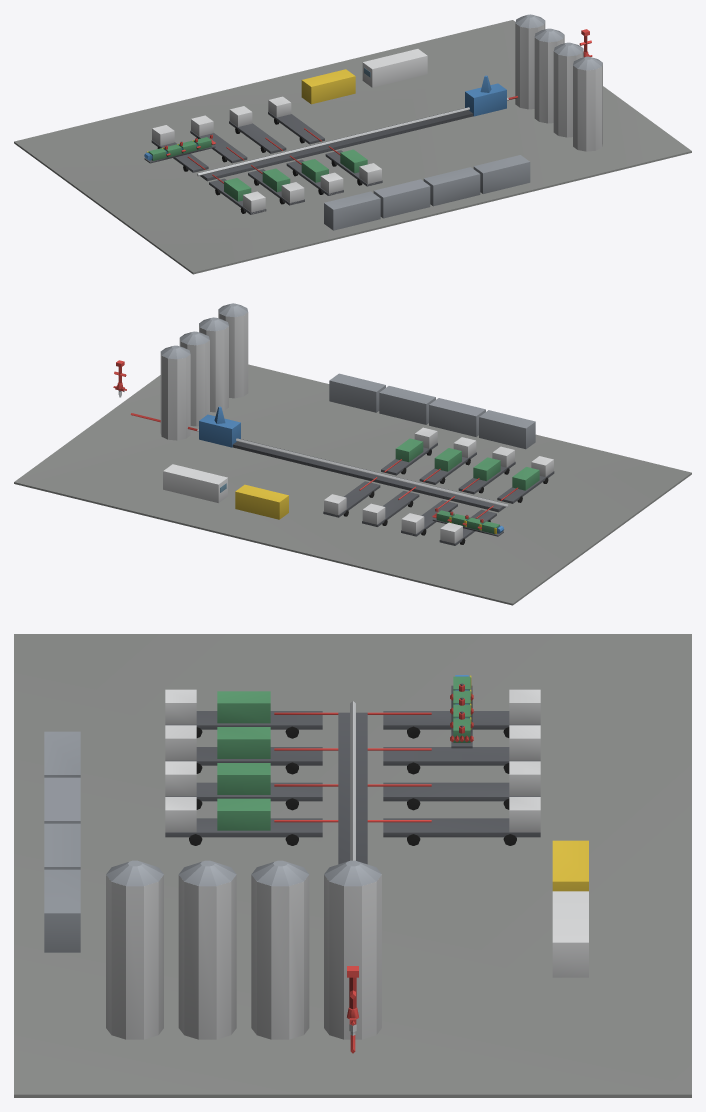
The model's file is frac_low.glb.
3 views of the same model, one above another, from view 1: azimuth 30°, elevation 25°; view 2: azimuth 150°, elevation 25°; view 3: azimuth 270°, elevation 25° (orthographic). The views are drawn at different scales.
Parts seen in each view (by area): view 1: site__pad, mudtanks__tanks, carrier__trailers, mudtanks__degasser, choke__manifold, mudpumps__fluidend2, generators__vfd, generators__gensets, mudtanks__solids, mudpumps__powerend; view 2: site__pad, mudtanks__tanks, carrier__trailers, mudtanks__degasser, choke__manifold, mudpumps__fluidend2, generators__vfd, generators__gensets, mudtanks__solids, mudpumps__powerend; view 3: site__pad, mudtanks__tanks, carrier__trailers, mudtanks__degasser, mudpumps__fluidend2, choke__manifold, generators__vfd, generators__gensets, mudpumps__powerend.
Boxes of the visible parts, box(x1,y1,x2,y2) form: site__pad: box(14, 20, 691, 274); mudtanks__tanks: box(515, 14, 602, 151); carrier__trailers: box(151, 96, 382, 214); mudtanks__degasser: box(324, 155, 530, 230); choke__manifold: box(187, 96, 518, 183); mudpumps__fluidend2: box(224, 149, 367, 201); generators__vfd: box(362, 49, 427, 87); generators__gensets: box(301, 69, 355, 104); mudtanks__solids: box(465, 75, 506, 116); mudpumps__powerend: box(144, 137, 215, 163); site__pad: box(14, 364, 691, 605); mudtanks__tanks: box(160, 303, 248, 440); carrier__trailers: box(323, 427, 554, 545); mudtanks__degasser: box(329, 373, 535, 449); choke__manifold: box(130, 413, 518, 518); mudpumps__fluidend2: box(395, 438, 539, 490); generators__vfd: box(163, 464, 227, 502); generators__gensets: box(235, 484, 288, 519); mudtanks__solids: box(199, 406, 240, 447); mudpumps__powerend: box(432, 510, 503, 536); site__pad: box(14, 634, 691, 1097); mudtanks__tanks: box(106, 860, 381, 1039); carrier__trailers: box(165, 689, 540, 845); mudtanks__degasser: box(44, 731, 80, 952); mudpumps__fluidend2: box(217, 691, 270, 830); choke__manifold: box(274, 701, 431, 1053); generators__vfd: box(552, 891, 588, 977); generators__gensets: box(552, 840, 588, 891); mudpumps__powerend: box(451, 676, 472, 748).
Bounding box in the file's own units: 90 × 15.3 × 56.
